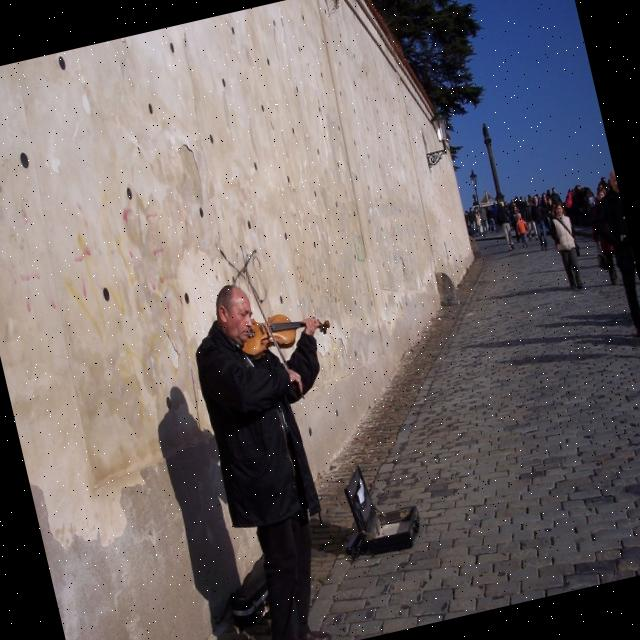violin: (234, 298, 336, 359)
